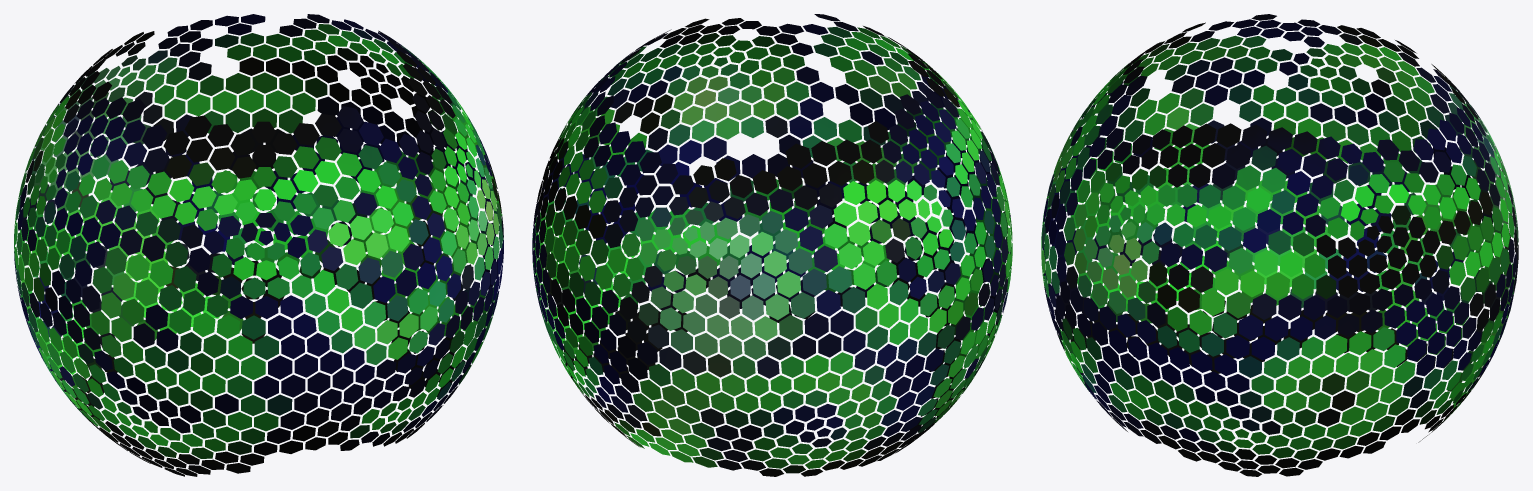
Rendered from mass_spectro.fbx.
The picture shows the model from 3 angles, left to right: view 1: azimuth 30°, elevation 25°; view 2: azimuth 150°, elevation 25°; view 3: azimuth 270°, elevation 25°; orthographic projection. The views are drawn at different scales.
Visible parts, largest first — view 1: mass_spectro; view 2: mass_spectro; view 3: mass_spectro.
Part boxes in pixels (x1=…): mass_spectro: x1=14, y1=14, x2=503, y2=476; mass_spectro: x1=532, y1=14, x2=1012, y2=476; mass_spectro: x1=1041, y1=14, x2=1518, y2=476.
Bounding box in the file's own units: 209 × 172 × 209.
